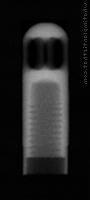Titan Implants: (21, 20, 69, 175)
